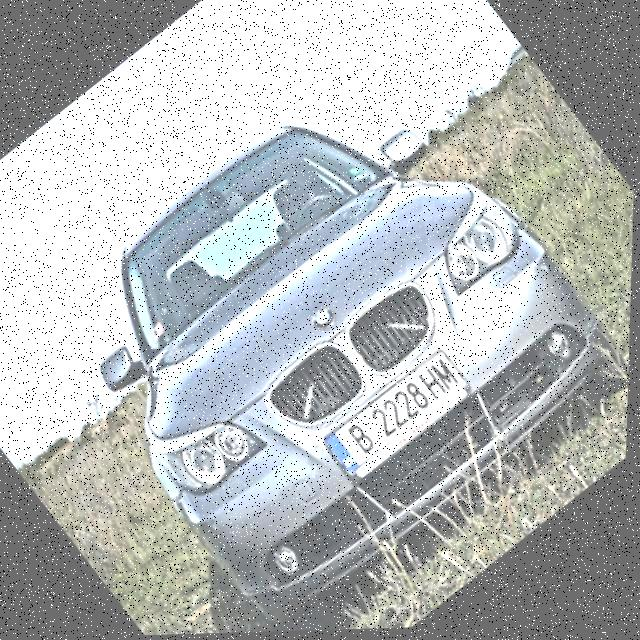license_plate: (322, 346, 472, 480)
